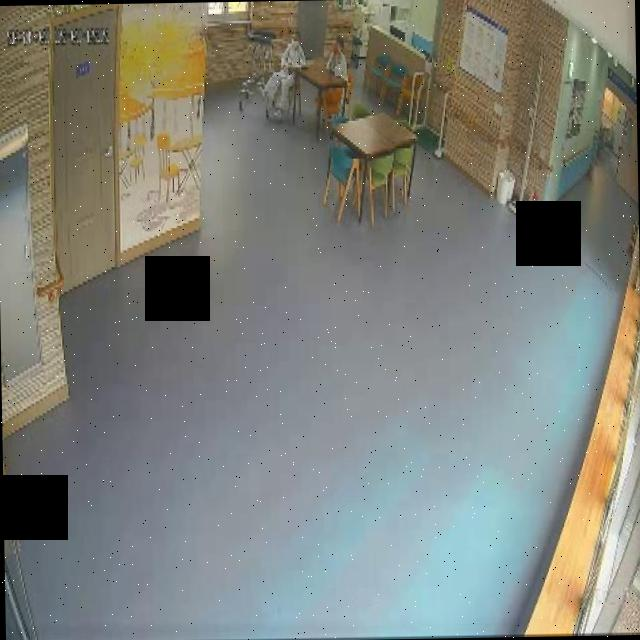patient: (258, 30, 309, 124), (325, 28, 356, 82)
sit: (259, 32, 309, 122)
